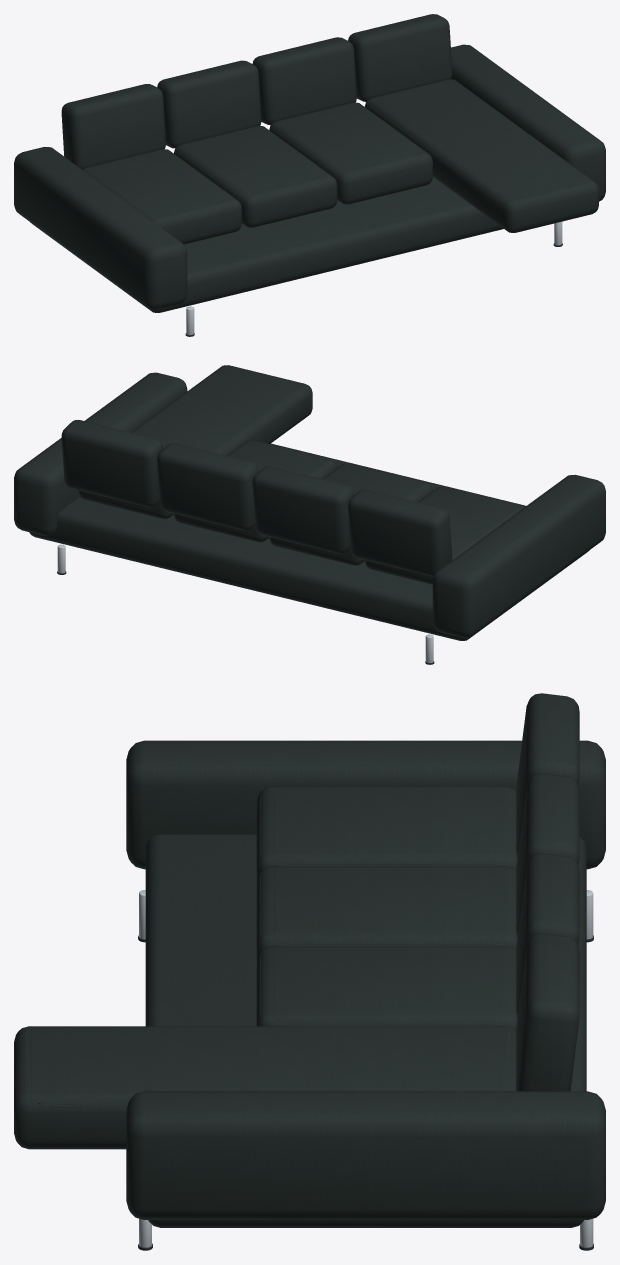
The model's file is right-chaise-sectional.glb.
3 renders of one model, top to bottom at view 1: azimuth 30°, elevation 25°; view 2: azimuth 150°, elevation 25°; view 3: azimuth 270°, elevation 25°, orthographic. The views are drawn at different scales.
Parts seen in each view (by area): view 1: right-chaise-sectional authored assembly; view 2: right-chaise-sectional authored assembly; view 3: right-chaise-sectional authored assembly.
Boxes of the visible parts, x1=… form: right-chaise-sectional authored assembly: x1=14, y1=14, x2=605, y2=336; right-chaise-sectional authored assembly: x1=14, y1=365, x2=605, y2=664; right-chaise-sectional authored assembly: x1=14, y1=693, x2=605, y2=1250.
Size of the model in its own units: 2.85 by 0.85 by 1.85.
Materials: 4 (1 with a texture image).
